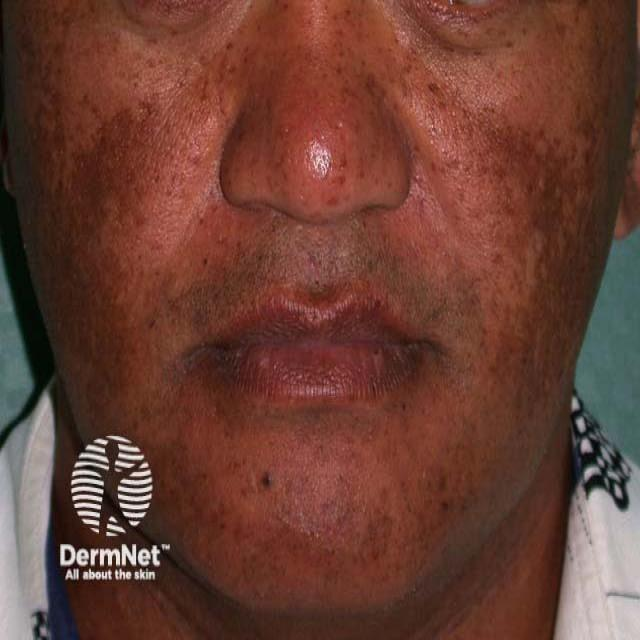Melasma: (396, 20, 606, 447), (28, 22, 212, 350), (145, 450, 452, 592)
